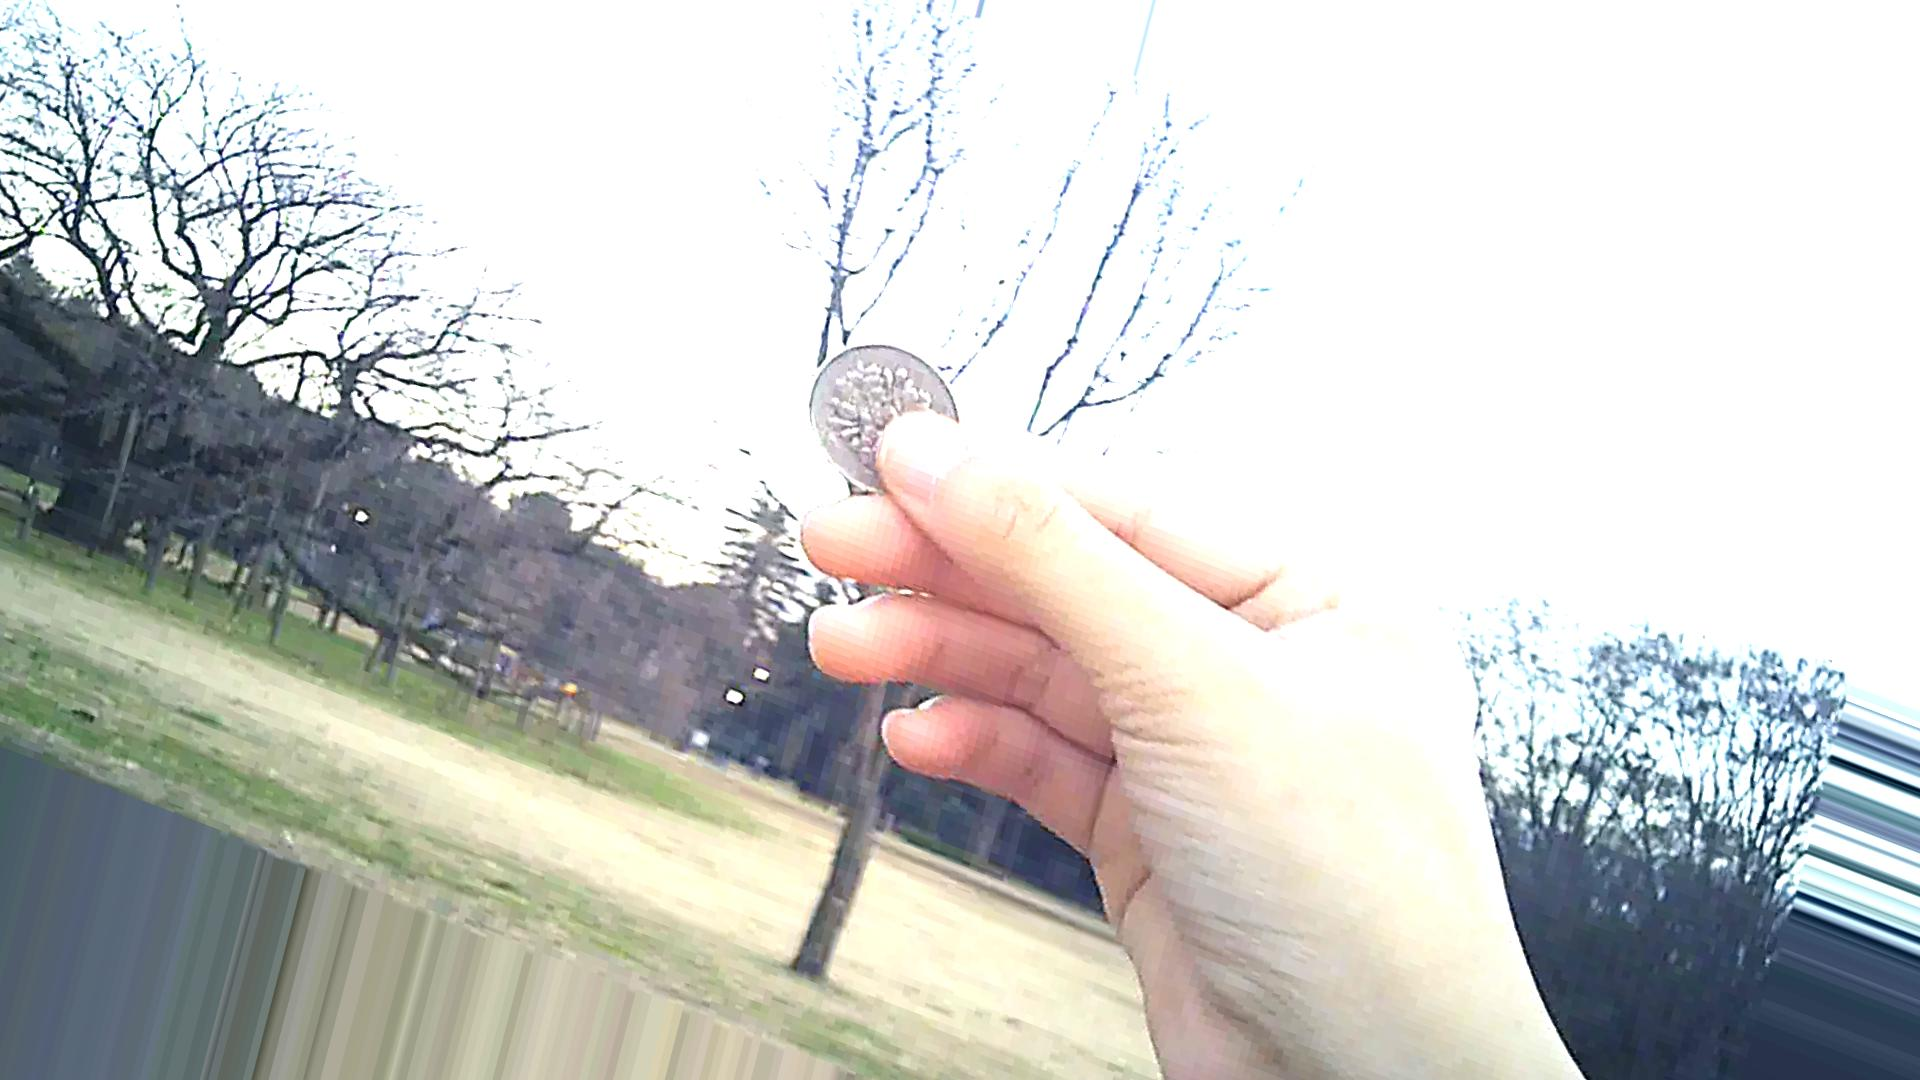100 Yen: (799, 342, 949, 497)
